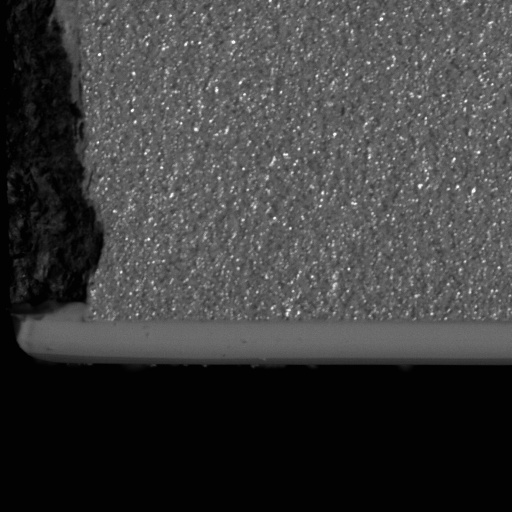bengque: (16, 4, 105, 315)
